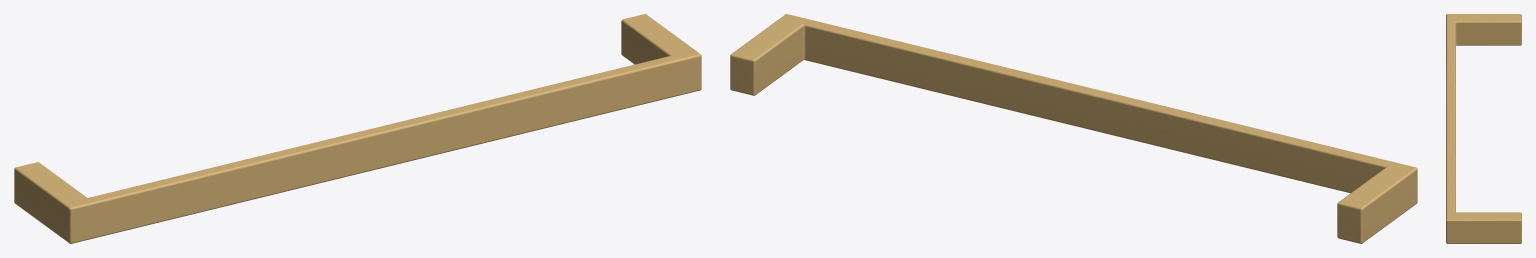
The model's file is eurofit-h-62501-192rg-v3.glb.
The picture shows the model from 3 angles, left to right: view 1: azimuth 30°, elevation 25°; view 2: azimuth 150°, elevation 25°; view 3: azimuth 270°, elevation 25°; orthographic projection. The views are drawn at different scales.
Visible parts, largest first — view 1: Continuous U grip and legs; view 2: Continuous U grip and legs; view 3: Continuous U grip and legs.
Boxes of the visible parts, x1,y1,x2,y2 form: Continuous U grip and legs: (14,14,701,243); Continuous U grip and legs: (730,14,1417,243); Continuous U grip and legs: (1446,14,1521,243).
Size of the model in its own units: 0.2 by 0.011 by 0.031.
